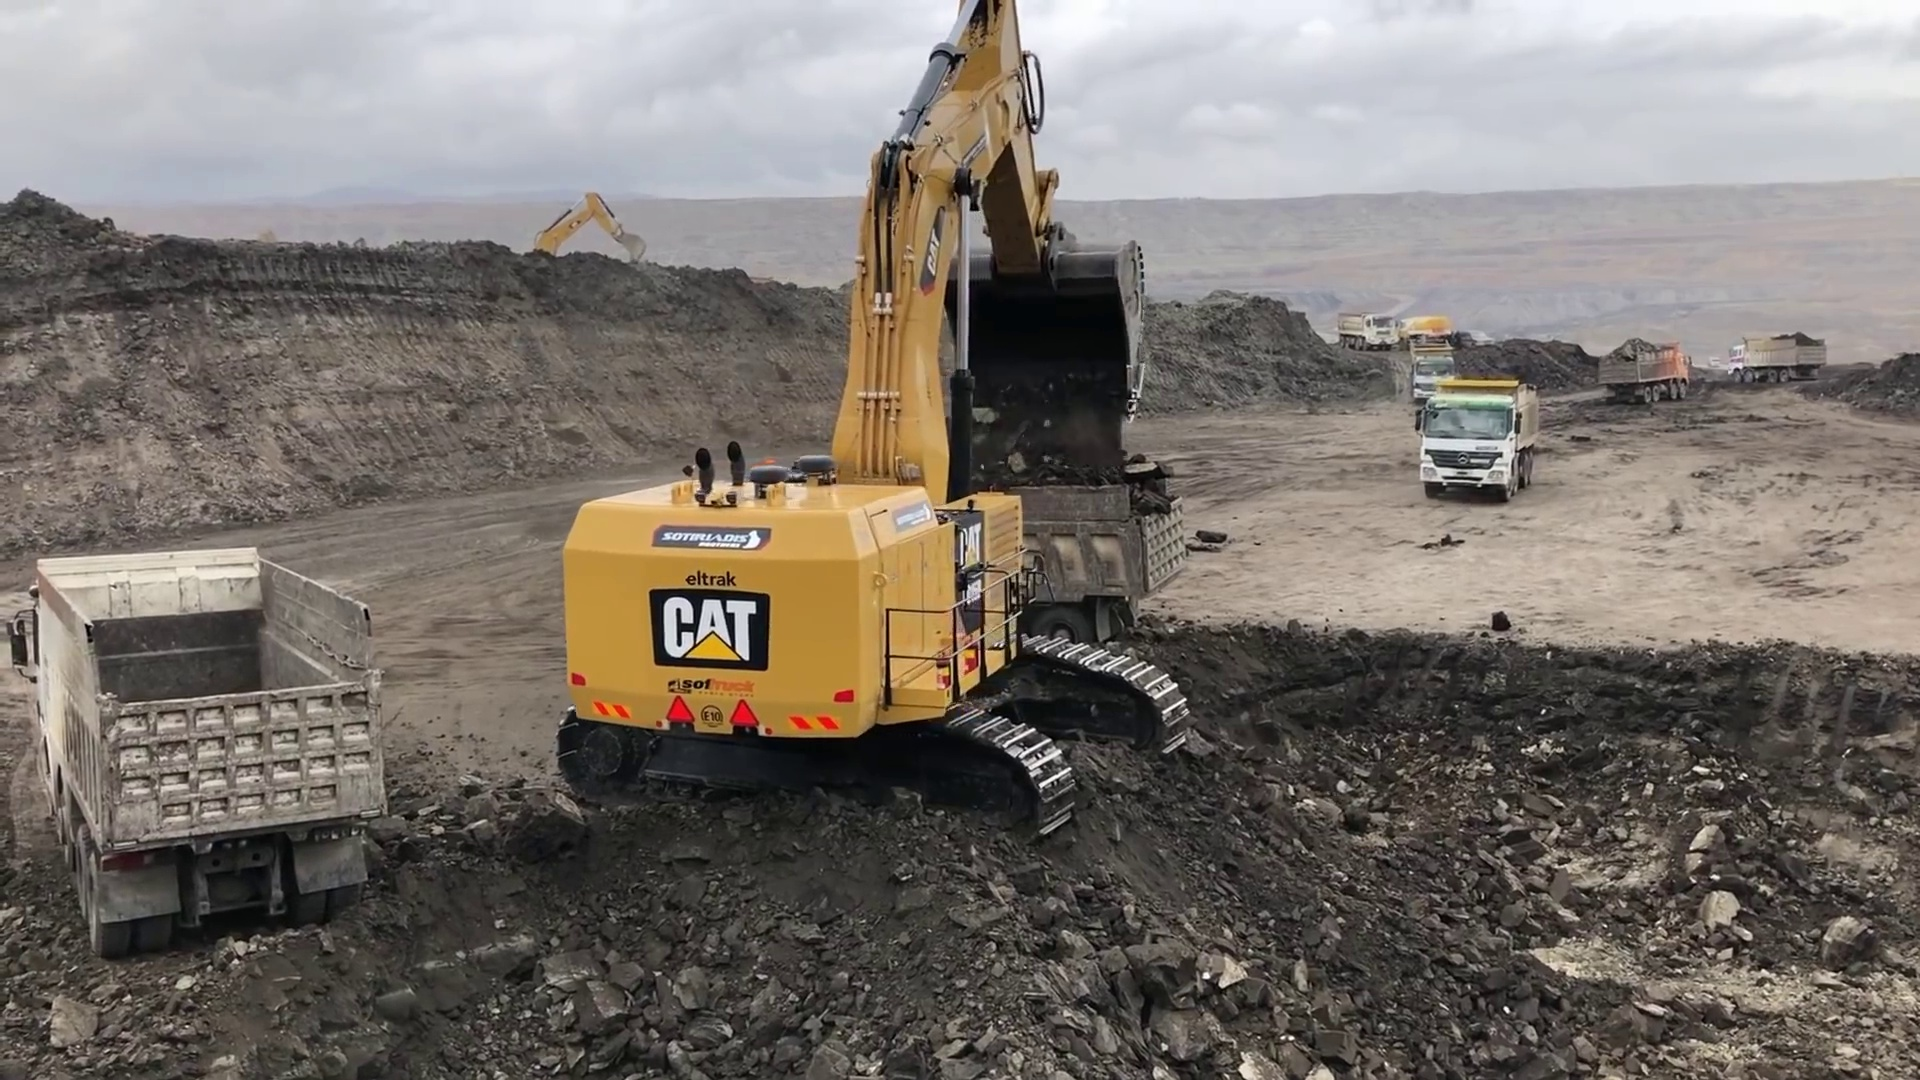excavator: (550, 5, 1207, 843), (495, 189, 647, 310)
truck: (18, 551, 386, 955), (1424, 382, 1538, 512), (1592, 336, 1697, 405), (1725, 332, 1826, 382), (1400, 343, 1455, 401), (1342, 301, 1393, 351), (1403, 313, 1451, 339)
